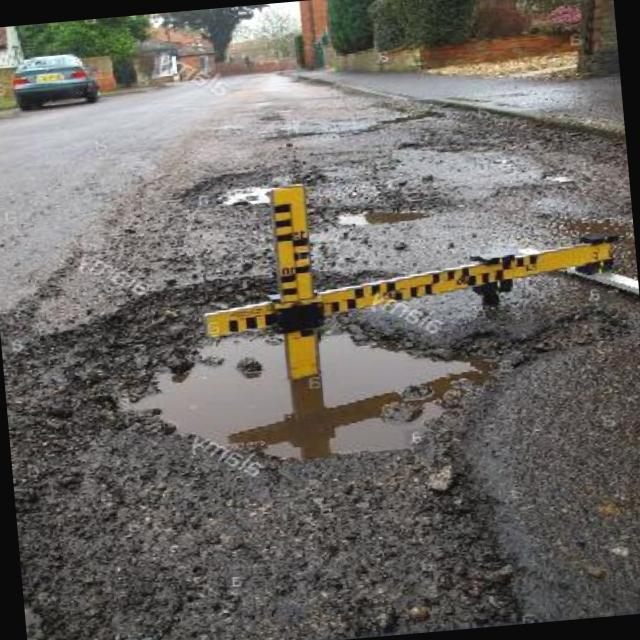Pothole: (0, 265, 621, 640), (173, 163, 323, 216), (329, 179, 450, 232)
